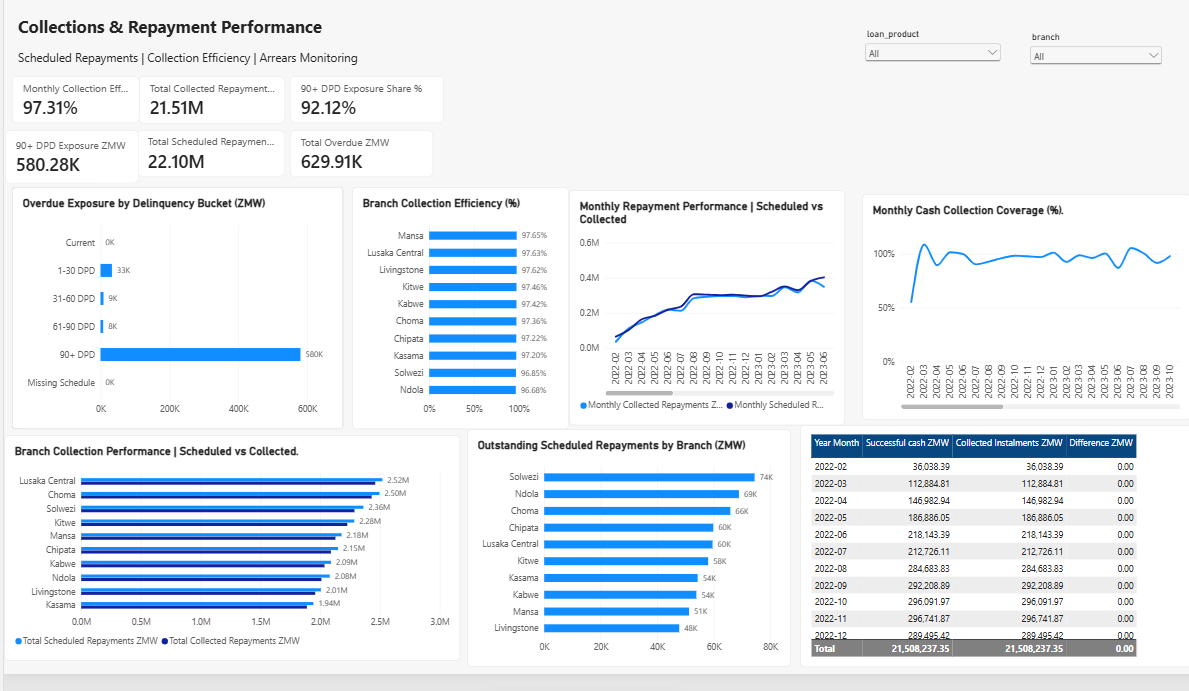

The dashboard page shown, as its layout file describes it:
{"tool":"powerbi","page":{"name":"Collections & Repayment Analysis","canvas":[1920,1080],"ordinal":2},"visuals":[{"type":"textbox","box":[21.9,30.6,636.1,39.4],"z":0},{"type":"textbox","box":[22.6,84.3,636.1,43.8],"z":1},{"type":"cardVisual","fields":{"Data":["DimBranch.Collection Efficiency %"]},"box":[12,128,203.3,75.3],"z":2},{"type":"cardVisual","fields":{"Data":["DimBranch.Total Collected Repayments ZMW"]},"box":[215.1,127.5,232.6,76.5],"z":3},{"type":"cardVisual","fields":{"Data":["DimBranch.Total Scheduled Repayments ZMW"]},"box":[211.9,213.5,235.8,74.9],"z":4},{"type":"clusteredBarChart","title":"Branch Collection Performance | Scheduled vs Collected.","fields":{"Category":["DimBranch.branch"],"Y":["DimBranch.Total Scheduled Repayments ZMW","DimBranch.Total Collected Repayments ZMW"]},"box":[0,698.7,727.3,359.9],"z":5},{"type":"clusteredBarChart","title":"Branch Collection Efficiency (%)","fields":{"Category":["DimBranch.branch"],"Y":["DimBranch.Collection Efficiency %"]},"box":[554.2,304.2,346.4,385.5],"z":6},{"type":"lineChart","title":"Monthly Repayment Performance | Scheduled vs Collected","fields":{"Category":["DimDate.Year Month"],"Y":["DimBranch.Monthly Collected Repayments ZMW","DimBranch.Monthly Scheduled Repayments ZMW"]},"box":[900.5,308.7,439.7,375],"z":7},{"type":"lineChart","title":"Monthly Cash Collection Coverage (%).","fields":{"Category":["DimDate.Year Month"],"Y":["DimBranch.Collection Efficiency %"]},"box":[1367.3,314.7,524,359.9],"z":8},{"type":"clusteredBarChart","title":"Outstanding Scheduled Repayments by Branch (ZMW)","fields":{"Category":["DimBranch.branch"],"Y":["DimBranch.Outstanding Scheduled ZMW"]},"box":[737.7,689.9,516.2,379.2],"z":9},{"type":"clusteredBarChart","title":"Overdue Exposure by Delinquency Bucket (ZMW)","fields":{"Category":["DimDPDBucket.dpd_bucket"],"Y":["DimBranch.Total Overdue ZMW"]},"box":[12,304.2,528.6,385.5],"z":11},{"type":"cardVisual","fields":{"Data":["DimBranch.90+ DPD Exposure ZMW"]},"box":[1.5,213.8,213.8,85.8],"z":12},{"type":"cardVisual","fields":{"Data":["DimBranch.90+ DPD Exposure Share %"]},"box":[455.7,127.5,245.5,75.3],"z":13},{"type":"cardVisual","fields":{"Data":["DimBranch.Total Overdue ZMW"]},"box":[455.7,213.5,228.9,75.3],"z":14},{"type":"slicer","fields":{"Values":["DimBranch.branch"]},"box":[1629.4,57.2,219.9,247],"z":15},{"type":"slicer","fields":{"Values":["FactLoans.loan_product"]},"box":[1367.3,52.7,225.9,247],"z":16},{"type":"tableEx","fields":{"Values":["DimDate.Year Month","FactPayments.Monthly Successful Payments ZMW","FactPayments.Monthly Collected Instalments ZMW","FactPayments.Monthly Reconciliation Difference ZMW"]},"box":[1268.3,683.6,651.7,385.6],"z":17}]}

Visuals, with their boxes on the page's 1920x1080 design canvas (x1, y1, x2, y2). These are canvas units, not pixel positions in the 1189x691 screenshot, which may show the page scaled, cropped or inside an application window:
textbox: (22, 31, 658, 70)
textbox: (23, 84, 659, 128)
cardVisual - DimBranch.Collection Efficiency %: (12, 128, 215, 203)
cardVisual - DimBranch.Total Collected Repayments ZMW: (215, 128, 448, 204)
cardVisual - DimBranch.Total Scheduled Repayments ZMW: (212, 214, 448, 288)
"Branch Collection Performance | Scheduled vs Collected." clusteredBarChart: (0, 699, 727, 1059)
"Branch Collection Efficiency (%)" clusteredBarChart: (554, 304, 901, 690)
"Monthly Repayment Performance | Scheduled vs Collected" lineChart: (900, 309, 1340, 684)
"Monthly Cash Collection Coverage (%)." lineChart: (1367, 315, 1891, 675)
"Outstanding Scheduled Repayments by Branch (ZMW)" clusteredBarChart: (738, 690, 1254, 1069)
"Overdue Exposure by Delinquency Bucket (ZMW)" clusteredBarChart: (12, 304, 541, 690)
cardVisual - DimBranch.90+ DPD Exposure ZMW: (2, 214, 215, 300)
cardVisual - DimBranch.90+ DPD Exposure Share %: (456, 128, 701, 203)
cardVisual - DimBranch.Total Overdue ZMW: (456, 214, 685, 289)
slicer - DimBranch.branch: (1629, 57, 1849, 304)
slicer - FactLoans.loan_product: (1367, 53, 1593, 300)
tableEx - DimDate.Year Month x FactPayments.Monthly Successful Payments ZMW: (1268, 684, 1920, 1069)
